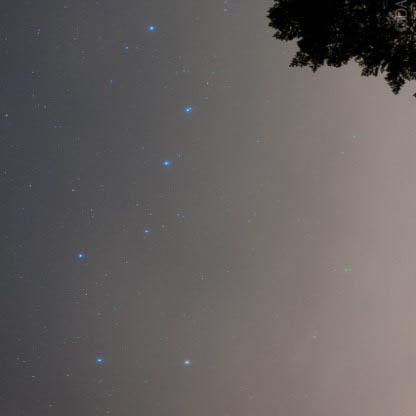Ursa Major: (67, 244, 94, 273), (82, 343, 107, 372), (140, 15, 169, 40), (152, 150, 176, 179), (133, 222, 157, 245), (173, 99, 196, 122), (178, 350, 199, 375)
